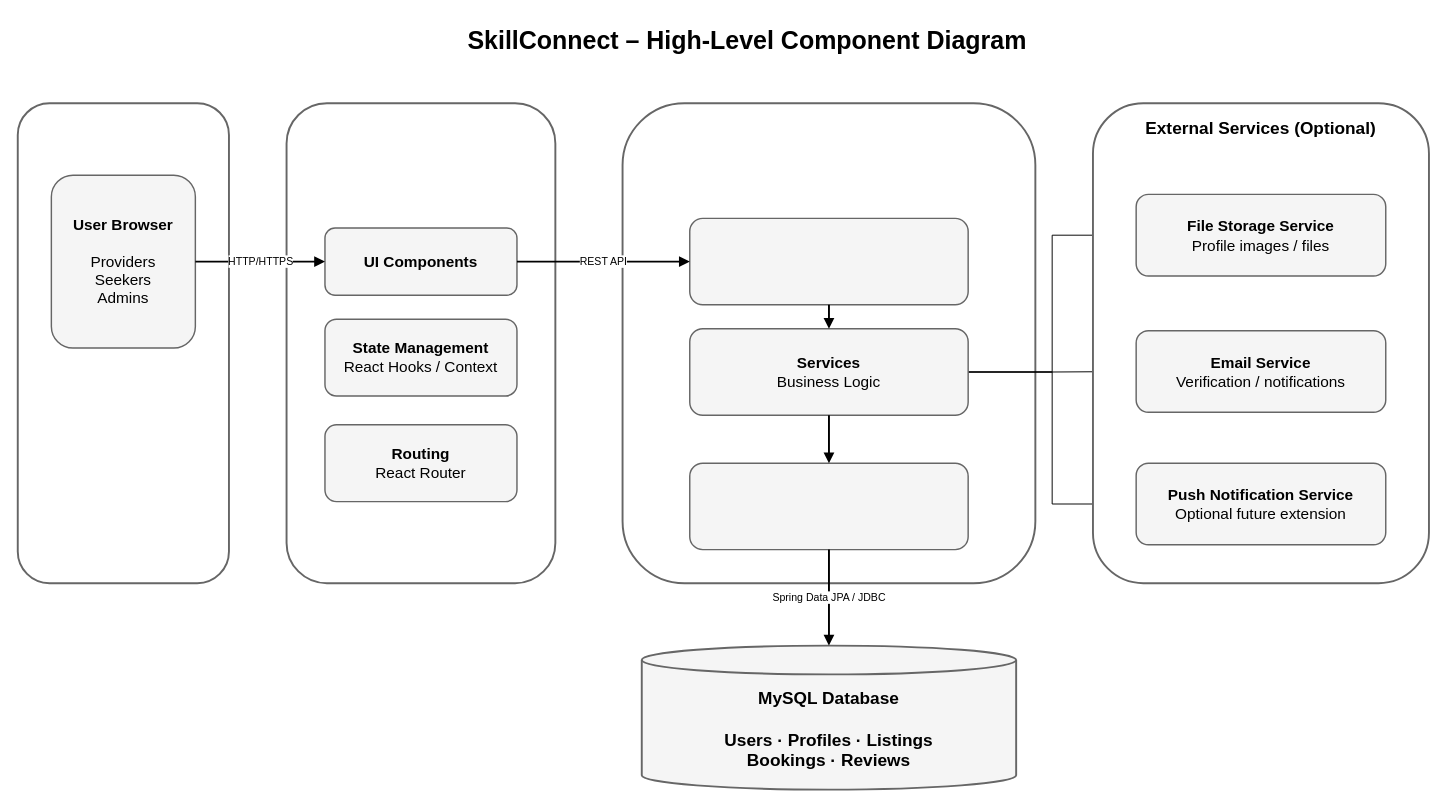
Image size: 1446x806. Some labels were removed from this diagram. Here are the shapes that lost their labels. From the top down, the box of each, then its label:
(689, 217, 968, 305): Controllers REST API Endpoints
(16, 102, 229, 584): Client
(285, 102, 556, 584): Frontend React + TypeScript
(621, 102, 1036, 584): Backend Application Spring Boot
(689, 462, 968, 550): Repositories Data Access Layer
